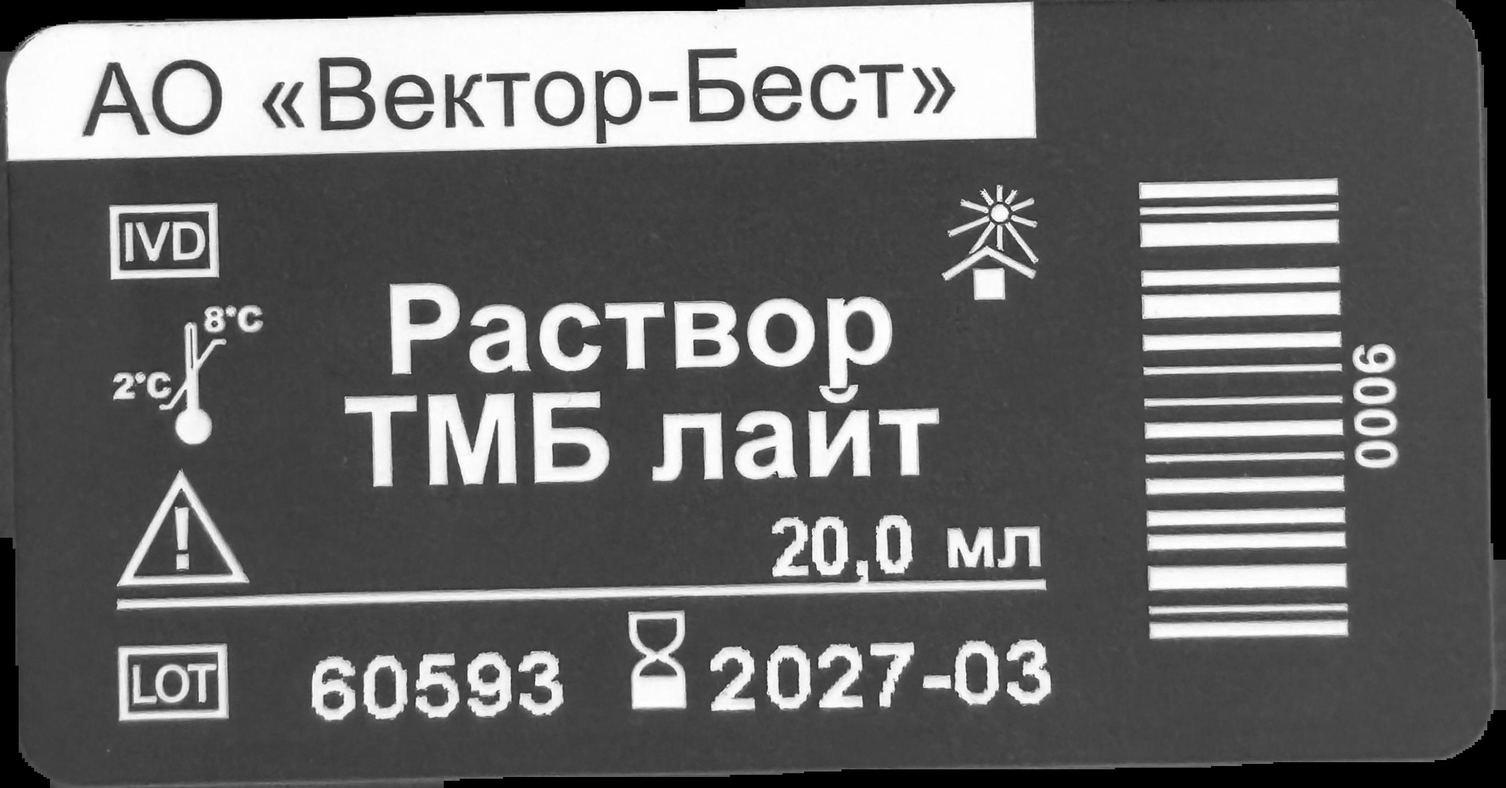something: (1133, 173, 1349, 642), (103, 299, 267, 452), (112, 460, 260, 593), (938, 179, 1042, 316), (117, 641, 235, 724), (107, 201, 222, 283), (625, 605, 692, 719)
text: (341, 276, 941, 486), (76, 44, 958, 146), (704, 638, 1054, 718), (763, 509, 1047, 585), (310, 648, 567, 728), (1349, 339, 1401, 471)
